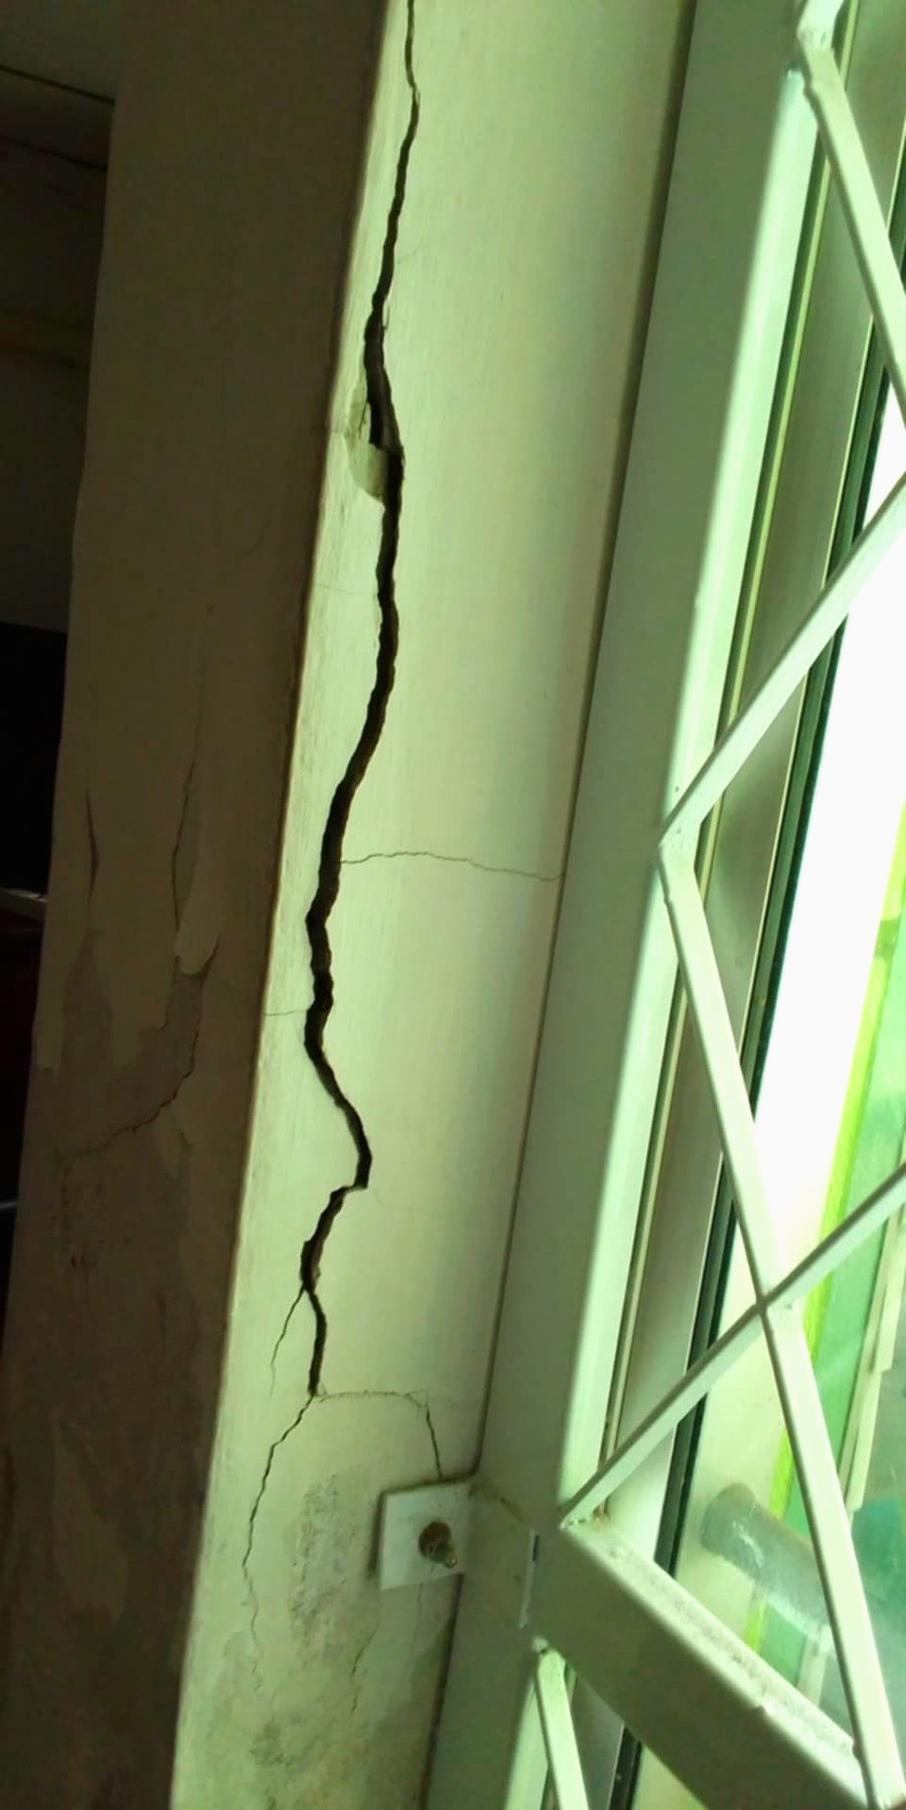High: (214, 3, 470, 1803)
